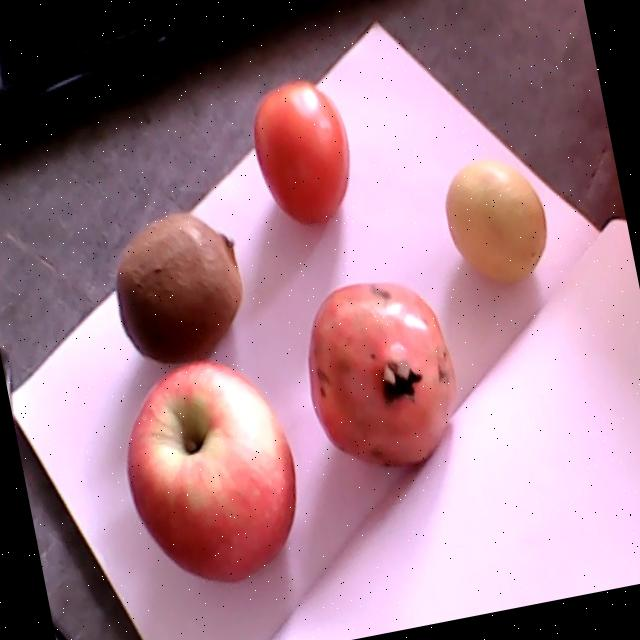apple: (128, 359, 296, 582)
kiwi: (116, 213, 243, 365)
lemon: (446, 164, 547, 280)
pomegranate: (309, 286, 459, 468)
tomato: (253, 79, 349, 224)
